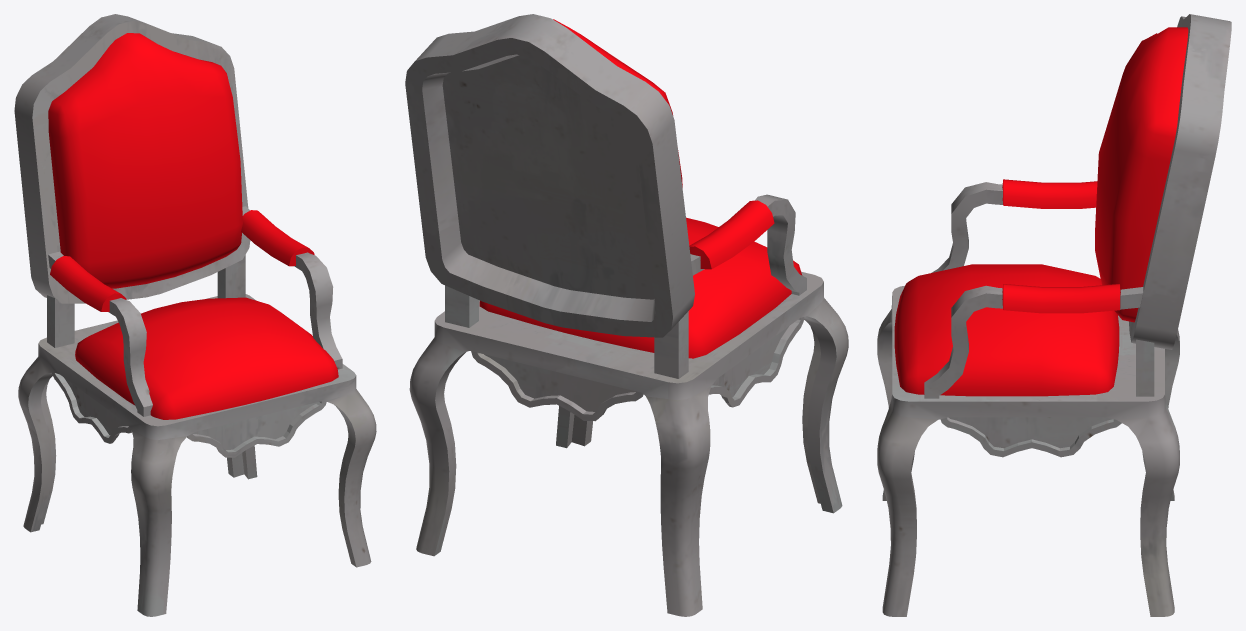
Rendered from SM_LowPoly_Chair_01.fbx.
The picture shows the model from 3 angles, left to right: view 1: azimuth 30°, elevation 25°; view 2: azimuth 150°, elevation 25°; view 3: azimuth 270°, elevation 25°; orthographic projection. The views are drawn at different scales.
Visible parts, largest first — view 1: Chair; view 2: Chair; view 3: Chair.
Boxes of the visible parts, x1,y1,x2,y2 form: Chair: (14,14,376,616); Chair: (405,14,848,616); Chair: (877,14,1231,616).
Size of the model in its own units: 80.95 by 154 by 92.66.
